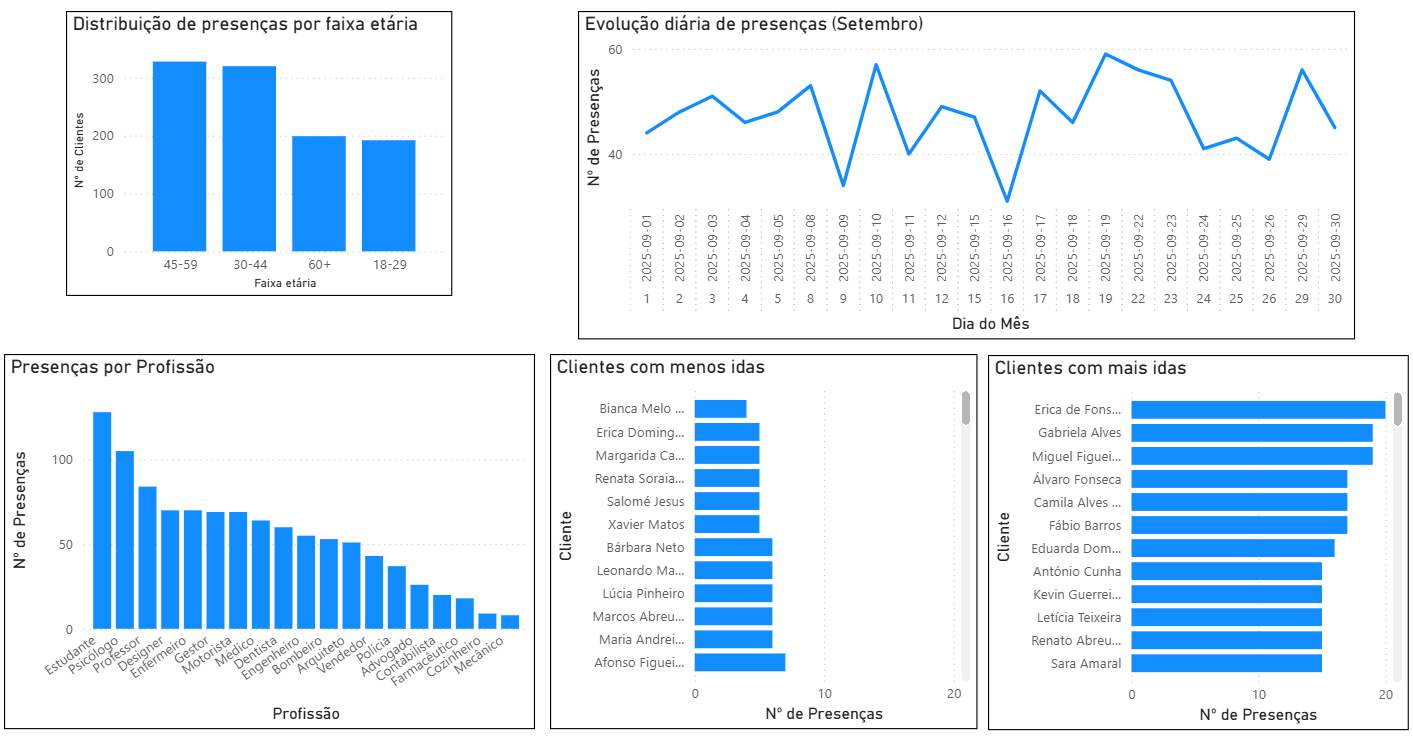

What the dashboard file says about the page in this screenshot:
{"tool":"powerbi","page":{"name":"Clientes e Aderência","canvas":[1280,720],"ordinal":1},"visuals":[{"type":"clusteredColumnChart","title":"Distribuição de presenças por faixa etária","fields":{"Category":["easyfit_dw dim_cliente.cliente_faixa_etaria"],"Y":["CountNonNull(easyfit_dw tf_cliente.fact_id)"]},"box":[65.4,51,347.5,256.1],"z":0},{"type":"columnChart","title":"Presenças por Profissão","fields":{"Category":["easyfit_dw dim_cliente.cliente_profissao"],"Y":["CountNonNull(easyfit_dw tf_cliente.fact_id)"]},"box":[9.9,359.3,477,336.8],"z":1000},{"type":"lineChart","title":"Evolução diária de presenças (Setembro)","fields":{"Category":["easyfit_dw tf_cliente.Analisar.Variação.Hierarquia de Datas.Dia","easyfit_dw tf_cliente.data"],"Y":["CountNonNull(easyfit_dw tf_cliente.fact_id)"]},"box":[525.7,51,697.6,294.6],"z":2000},{"type":"barChart","title":"Clientes com menos idas","fields":{"Category":["easyfit_dw dim_cliente.cliente_nome"],"Y":["CountNonNull(easyfit_dw tf_cliente.fact_id)"]},"box":[500.3,359.3,383.6,336.8],"z":3000},{"type":"barChart","title":"Clientes com mais idas","fields":{"Category":["easyfit_dw dim_cliente.cliente_nome"],"Y":["CountNonNull(easyfit_dw tf_cliente.fact_id)"]},"box":[893.8,360.2,378.2,336.8],"z":4000}]}

Visuals, with their boxes in screenshot pixels (x1, y1, x2, y2):
"Distribuição de presenças por faixa etária" clusteredColumnChart: [left=72, top=15, right=452, bottom=296]
"Presenças por Profissão" columnChart: [left=11, top=353, right=533, bottom=721]
"Evolução diária de presenças (Setembro)" lineChart: [left=575, top=15, right=1339, bottom=338]
"Clientes com menos idas" barChart: [left=547, top=353, right=967, bottom=721]
"Clientes com mais idas" barChart: [left=978, top=354, right=1392, bottom=722]
